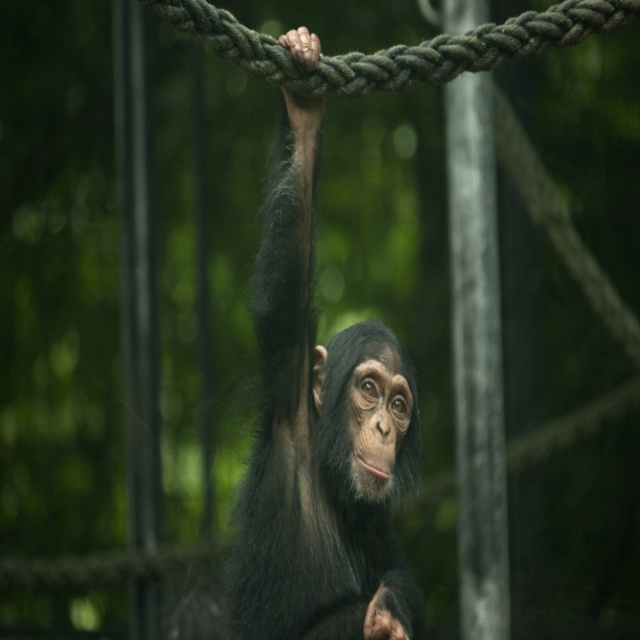Monkey: (172, 23, 421, 639)
